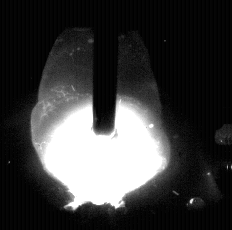arame: (93, 0, 118, 135)
poca: (30, 0, 171, 230)
